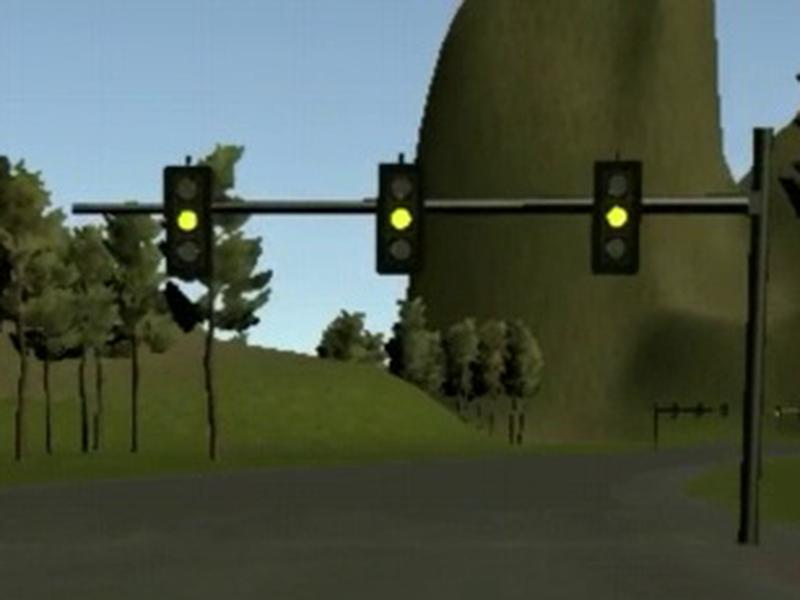Yellow: (592, 159, 642, 276), (374, 163, 422, 275), (165, 165, 212, 274)
